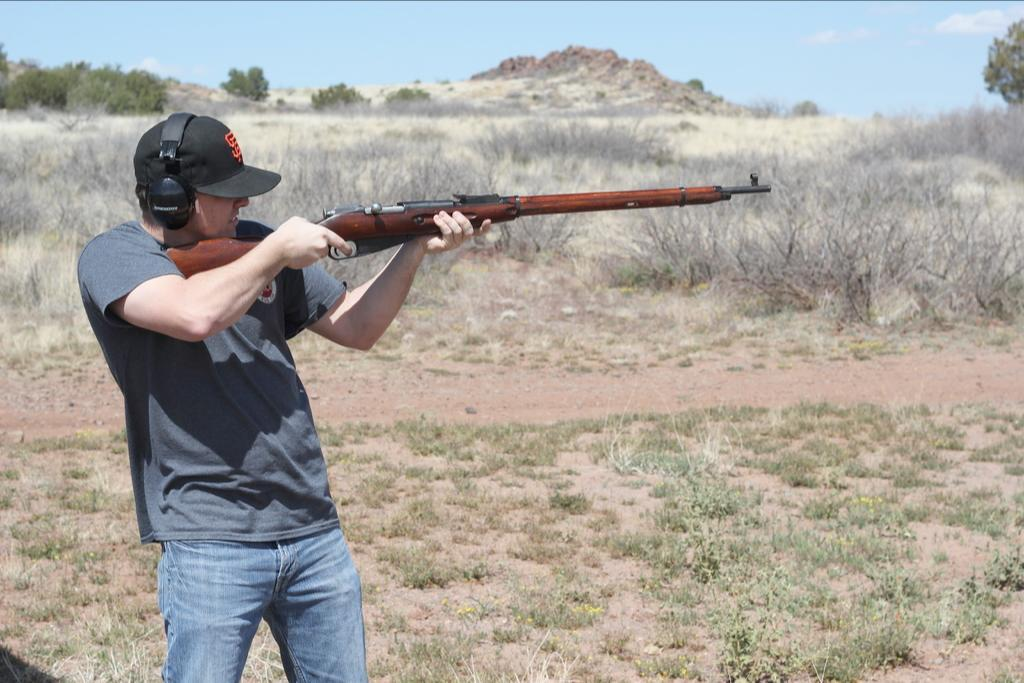gun: (168, 176, 776, 266)
